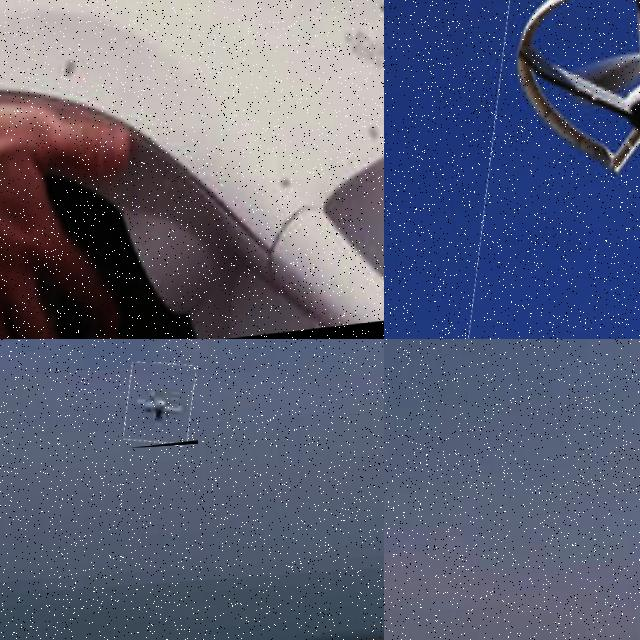0: (121, 360, 198, 448)
drone: (0, 0, 384, 339), (458, 0, 640, 339)
